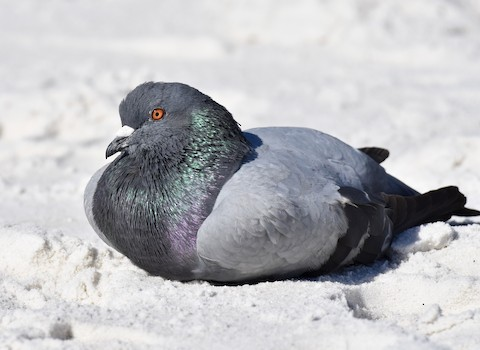pigeon: (84, 78, 469, 287)
